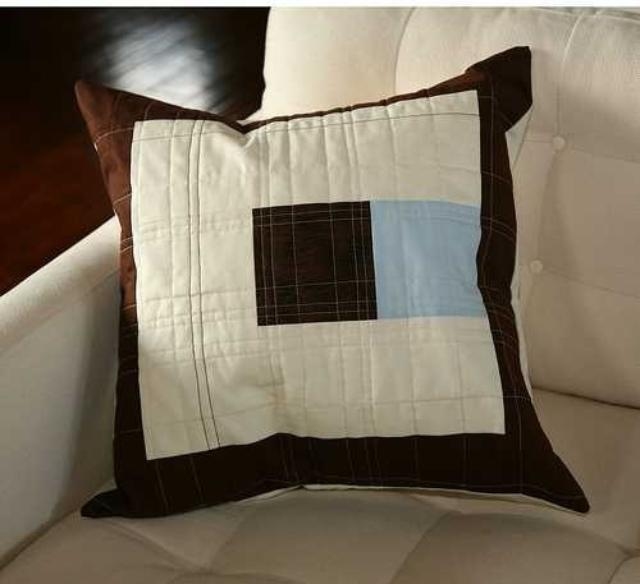pillow: (75, 47, 589, 520)
